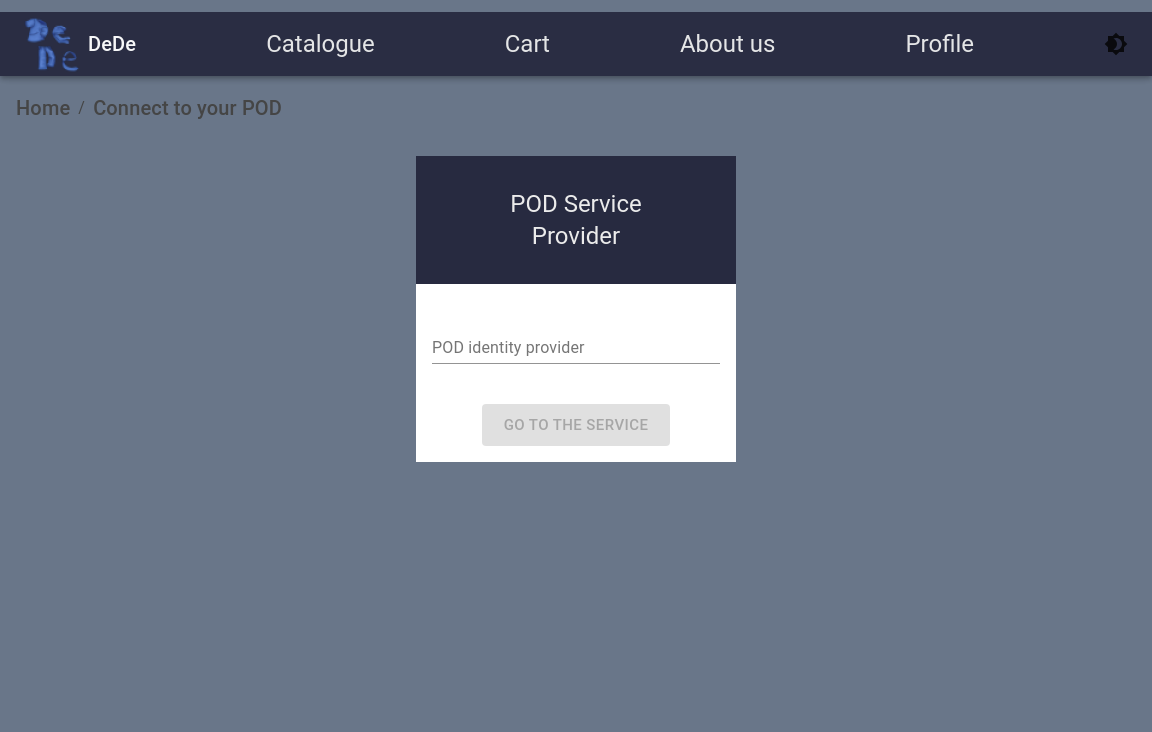
clicking on the logo takes you to the home page
This screenshot has width=1152, height=732.
Click the 1st button with alt text "logo": (52, 44) [24,16,80,72]
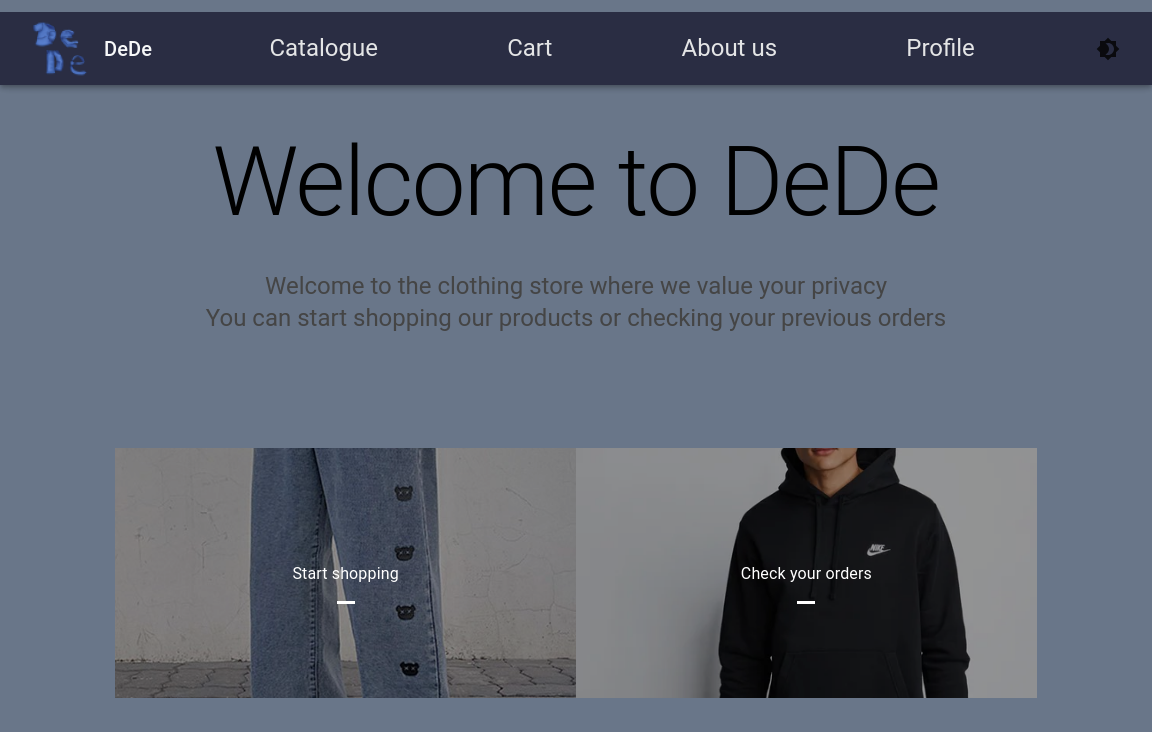
Check: the heading "Welcome to DeDe" is shown, box [212,126,940,238]
